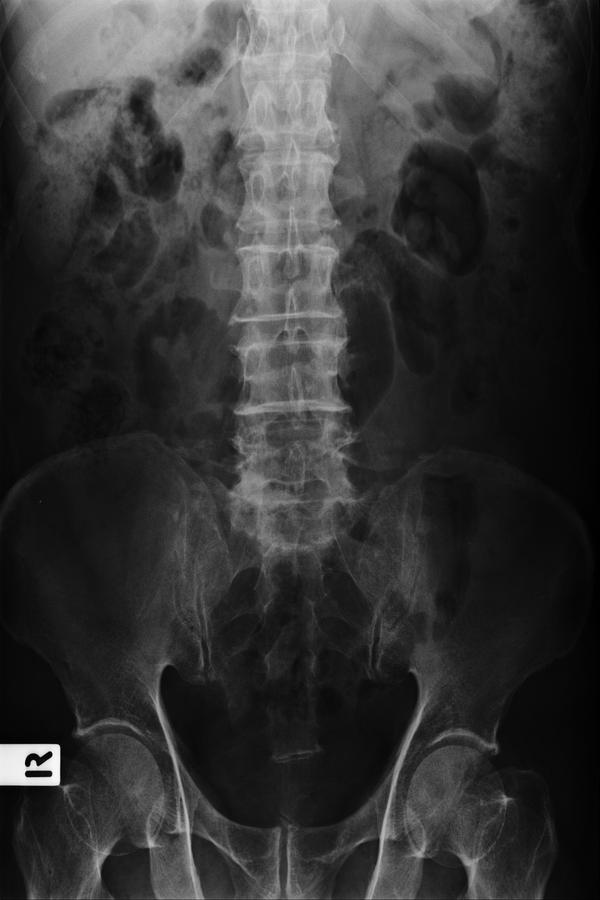not lumbar scoliosis: (215, 150, 366, 536)
